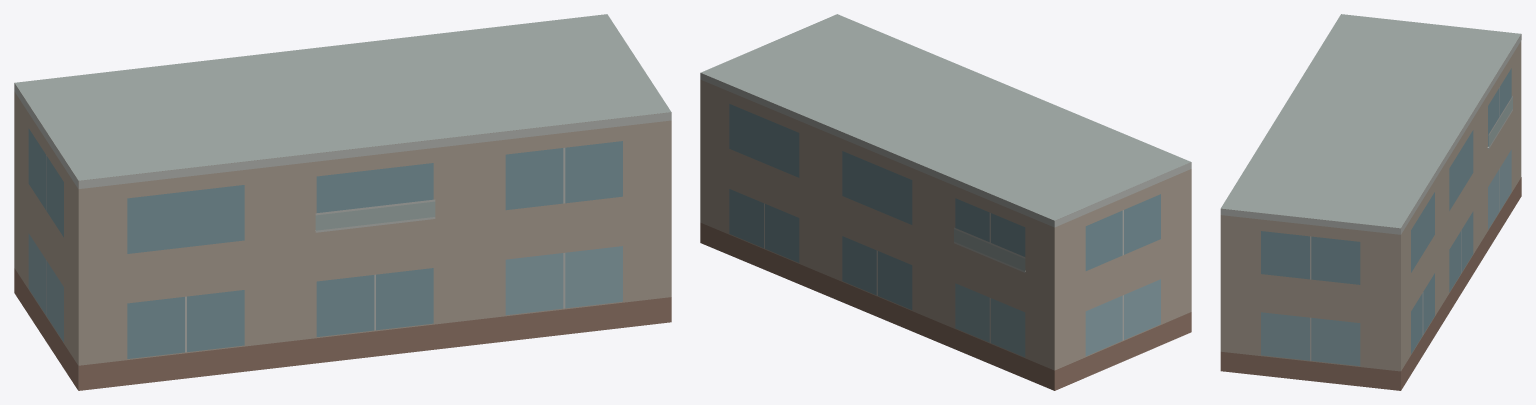
File: survey-upis-33006342.glb
3 views of the same model, side by side, from view 1: azimuth 30°, elevation 25°; view 2: azimuth 150°, elevation 25°; view 3: azimuth 270°, elevation 25° (orthographic). The views are drawn at different scales.
Parts seen in each view (by area): view 1: survey-upis-33006342.tmp; view 2: survey-upis-33006342.tmp; view 3: survey-upis-33006342.tmp.
Boxes of the visible parts, bbox=[...] form: survey-upis-33006342.tmp: bbox=[14, 14, 671, 390]; survey-upis-33006342.tmp: bbox=[700, 14, 1191, 390]; survey-upis-33006342.tmp: bbox=[1220, 14, 1521, 390].
Bounding box in the file's own units: 17.26 × 6.1 × 10.24.
